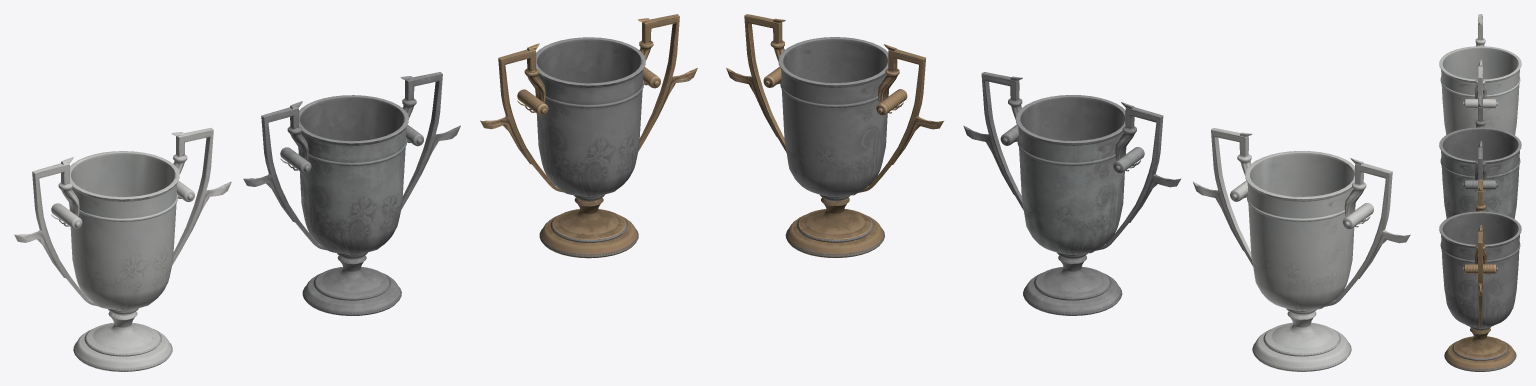
The model's file is trophy.glb.
The picture shows the model from 3 angles, left to right: view 1: azimuth 30°, elevation 25°; view 2: azimuth 150°, elevation 25°; view 3: azimuth 270°, elevation 25°; orthographic projection. The views are drawn at different scales.
Visible parts, largest first — view 1: Object_8, Object_4, Object_6; view 2: Object_4, Object_6, Object_8; view 3: Object_8, Object_4, Object_6.
Boxes of the visible parts, x1=… form: Object_8: x1=480, y1=14, x2=697, y2=258; Object_4: x1=243, y1=72, x2=460, y2=315; Object_6: x1=14, y1=127, x2=231, y2=371; Object_4: x1=963, y1=72, x2=1180, y2=315; Object_6: x1=1193, y1=128, x2=1410, y2=371; Object_8: x1=726, y1=14, x2=943, y2=257; Object_8: x1=1439, y1=179, x2=1521, y2=371; Object_4: x1=1439, y1=95, x2=1521, y2=218; Object_6: x1=1439, y1=14, x2=1521, y2=134.
Bounding box in the file's own units: 1.08 × 0.3127 × 0.1562.
3 materials, 3 textured.
